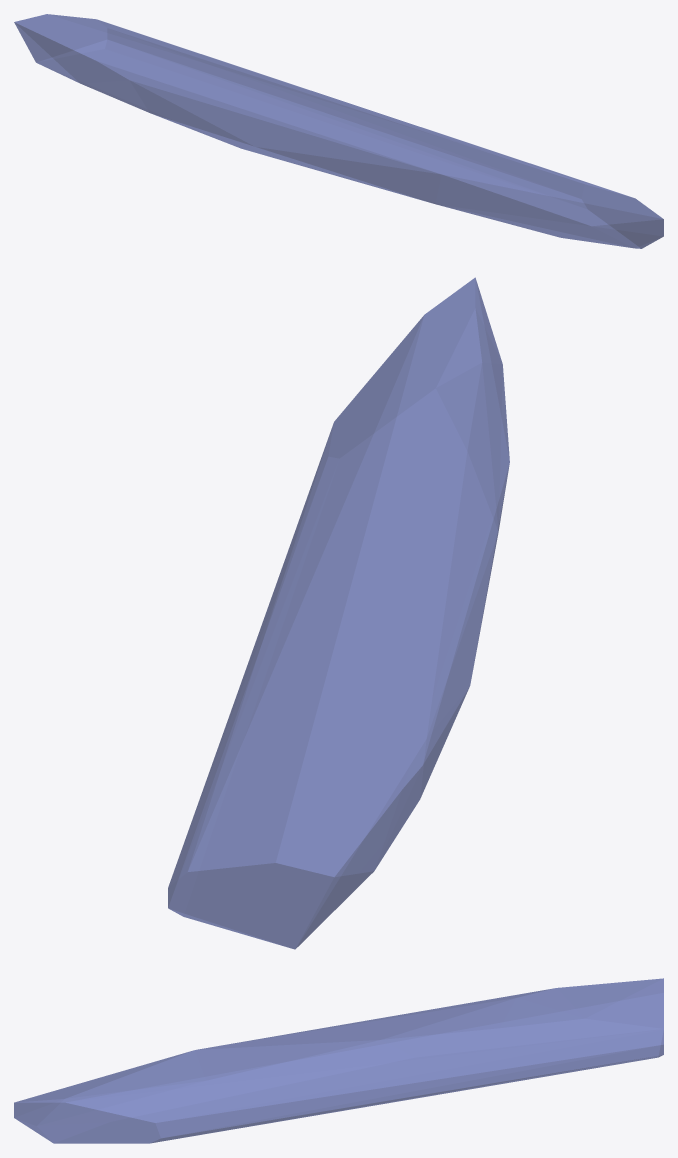
The picture shows the model from 3 angles, top to bottom: view 1: azimuth 30°, elevation 25°; view 2: azimuth 150°, elevation 25°; view 3: azimuth 270°, elevation 25°; orthographic projection. The views are drawn at different scales.
Visible parts, largest first — view 1: Shape_IndexedFaceSet.025_Shape_IndexedFaceSet.1964; view 2: Shape_IndexedFaceSet.025_Shape_IndexedFaceSet.1964; view 3: Shape_IndexedFaceSet.025_Shape_IndexedFaceSet.1964.
Boxes of the visible parts, bbox=[...] form: Shape_IndexedFaceSet.025_Shape_IndexedFaceSet.1964: bbox=[14, 14, 663, 248]; Shape_IndexedFaceSet.025_Shape_IndexedFaceSet.1964: bbox=[168, 277, 509, 949]; Shape_IndexedFaceSet.025_Shape_IndexedFaceSet.1964: bbox=[14, 978, 663, 1143].
Bounding box in the file's own units: 0.1372 × 0.0211 × 0.3035.
